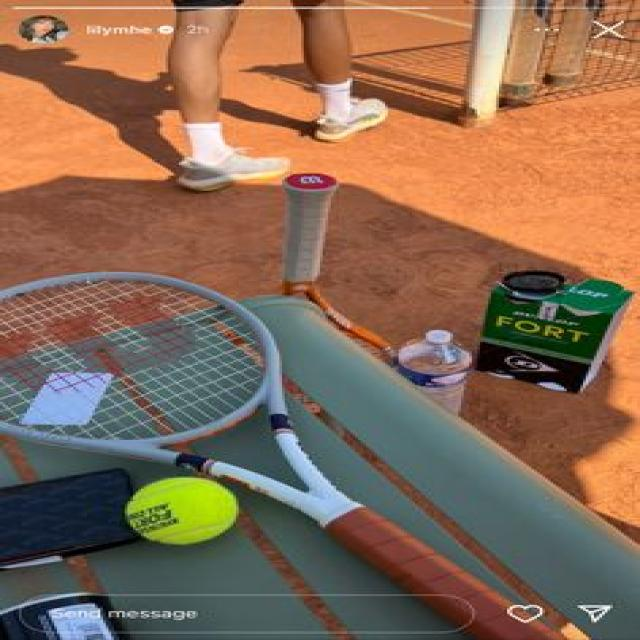tennis: (129, 472, 239, 549)
